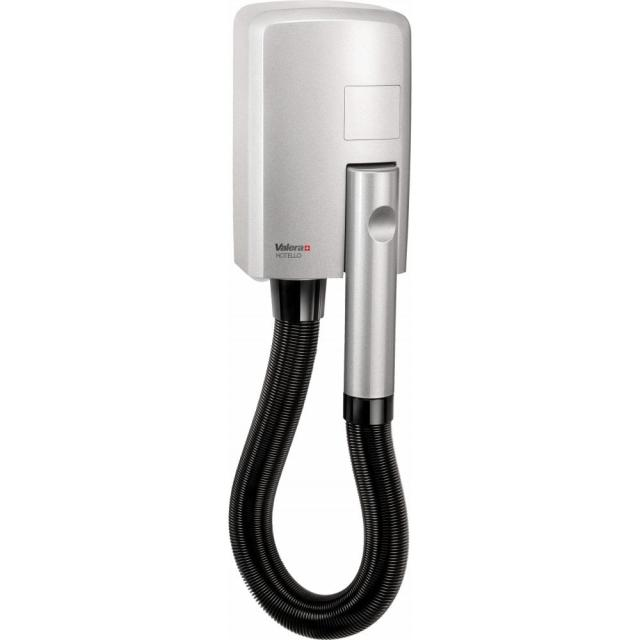dryer: (211, 1, 448, 640)
